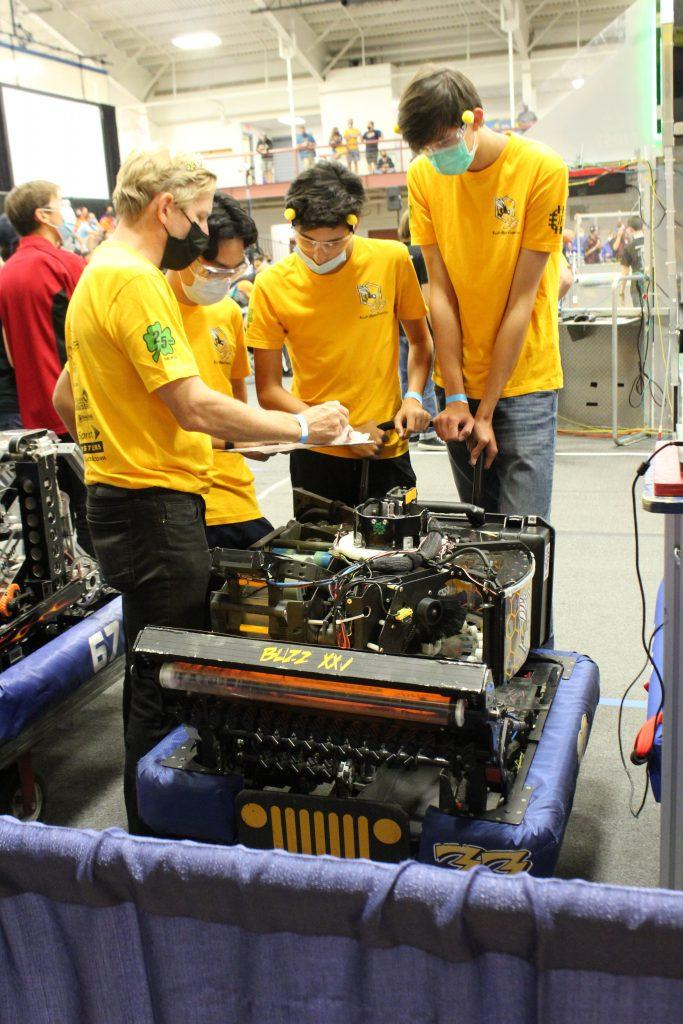robot: (129, 499, 609, 882), (1, 426, 125, 731)
